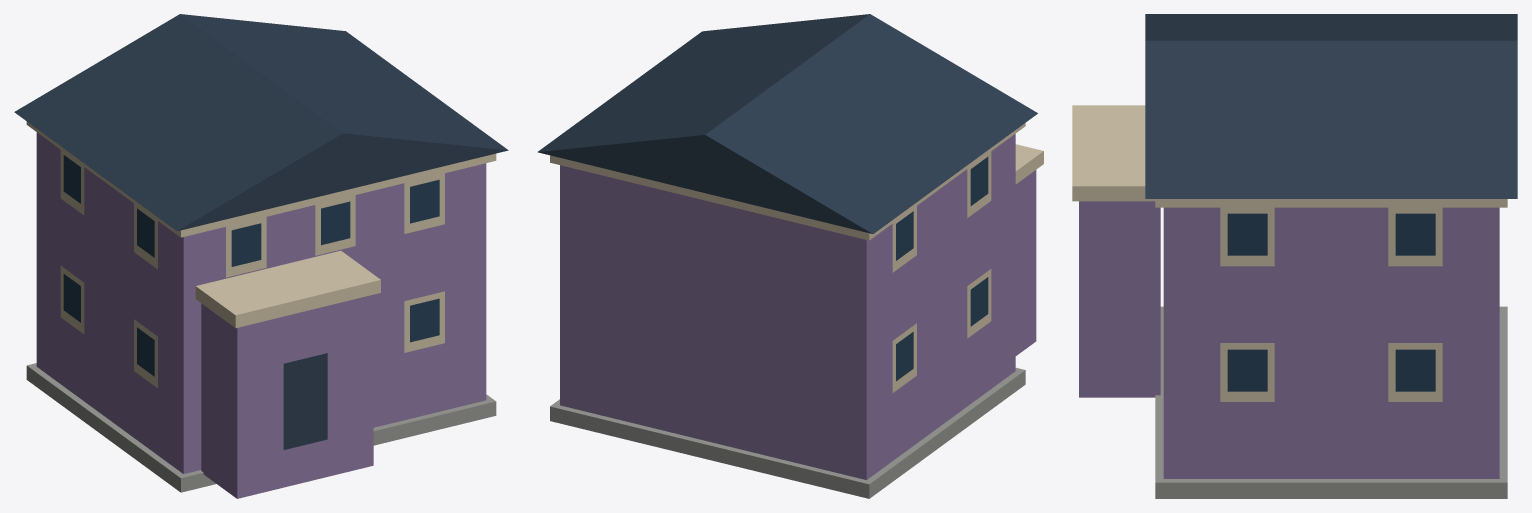
The model's file is villa-lilac.glb.
The picture shows the model from 3 angles, left to right: view 1: azimuth 30°, elevation 25°; view 2: azimuth 150°, elevation 25°; view 3: azimuth 270°, elevation 25°; orthographic projection. The views are drawn at different scales.
Parts seen in each view (by area): view 1: asset_root; view 2: asset_root; view 3: asset_root.
Part boxes in pixels (x1,y1,x2,y2): asset_root: (14, 14, 508, 498); asset_root: (537, 14, 1043, 498); asset_root: (1072, 14, 1517, 498).
Size of the model in its own units: 4.82 by 4.5 by 4.9.
